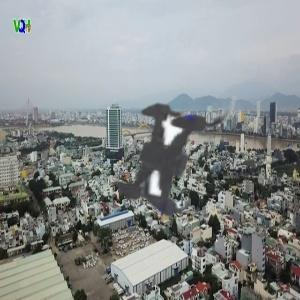drone: (26, 30, 295, 299)
